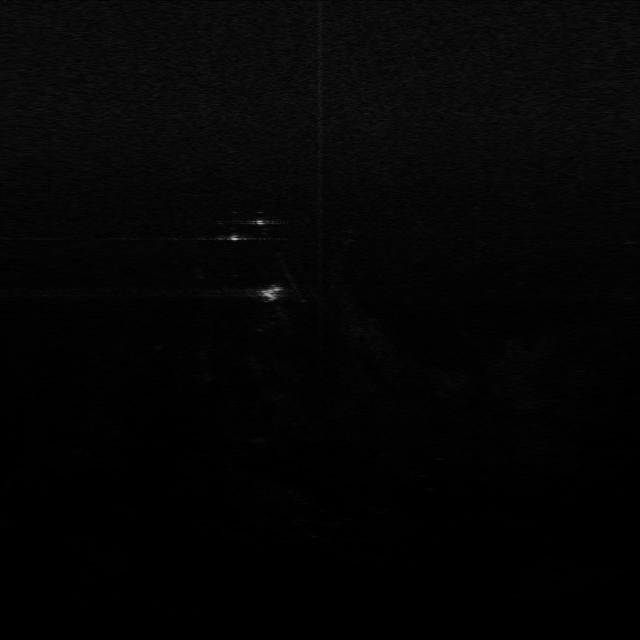rov: (252, 279, 287, 304)
